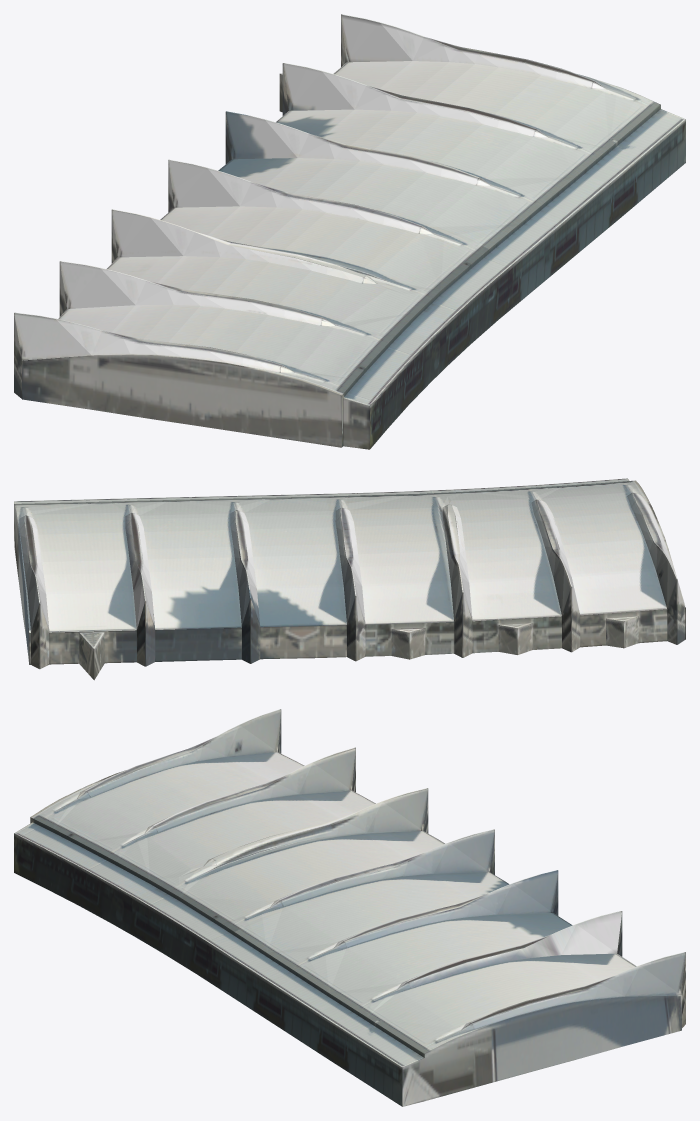
Rendered from unityexport3.obj.
3 renders of one model, top to bottom at view 1: azimuth 30°, elevation 25°; view 2: azimuth 150°, elevation 25°; view 3: azimuth 270°, elevation 25°, orthographic. The views are drawn at different scales.
Visible parts, largest first — view 1: Baked Mesh 60; view 2: Baked Mesh 60; view 3: Baked Mesh 60.
Part boxes in pixels (left/top/right/bottom): Baked Mesh 60: left=14, top=14, right=685, bottom=449; Baked Mesh 60: left=14, top=478, right=685, bottom=680; Baked Mesh 60: left=14, top=709, right=685, bottom=1106.
Bounding box in the file's own units: 280 × 29.03 × 244.
